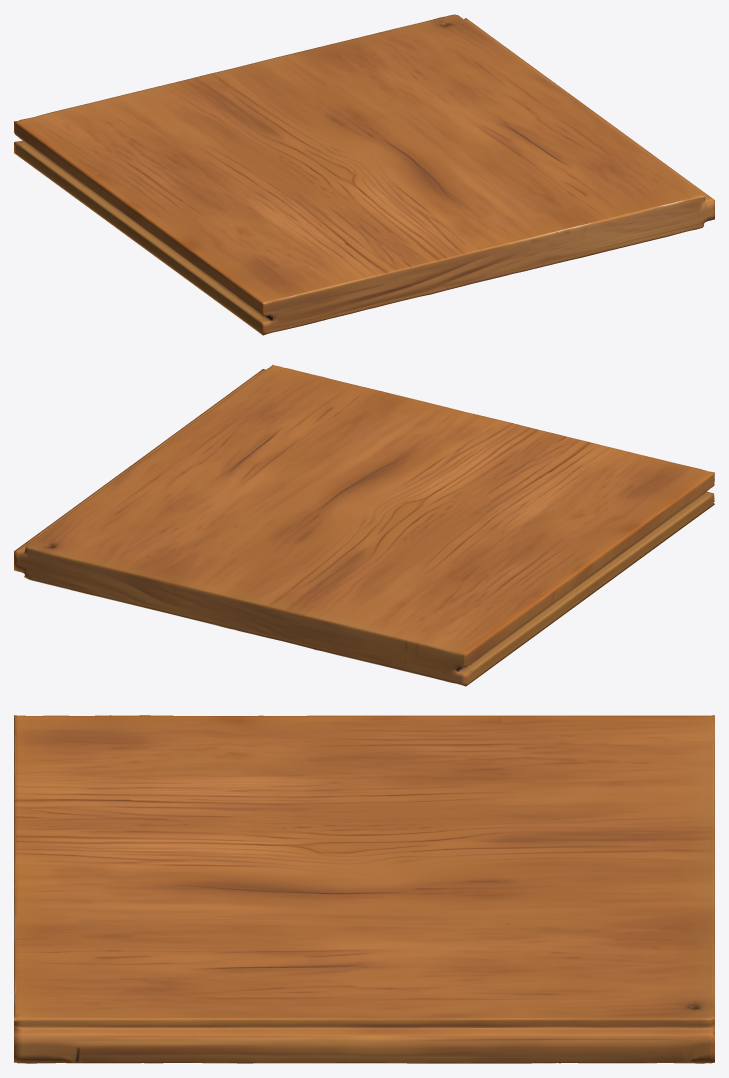
File: relay_panel-visual.glb
3 renders of one model, top to bottom at view 1: azimuth 30°, elevation 25°; view 2: azimuth 150°, elevation 25°; view 3: azimuth 270°, elevation 25°, orthographic. The views are drawn at different scales.
Visible parts, largest first — view 1: model; view 2: model; view 3: model.
Boxes of the visible parts, x1,y1,x2,y2 form: model: [14, 14, 714, 335]; model: [14, 364, 714, 686]; model: [14, 715, 714, 1063].
Bounding box in the file's own units: 1.9 × 0.1294 × 1.81.
1 material, 1 textured.
